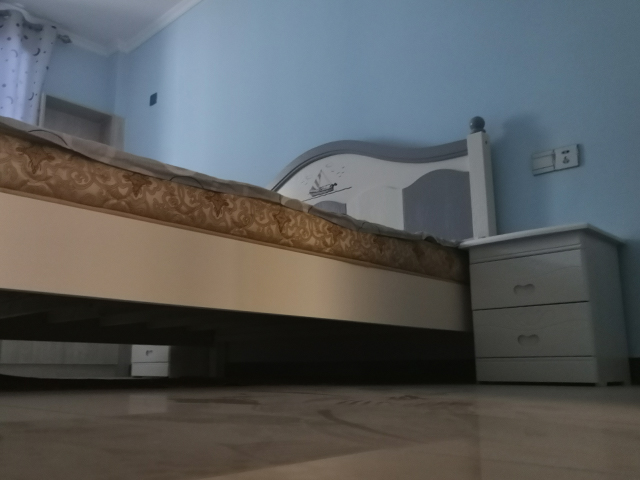bed: (1, 115, 500, 386)
cabinet: (457, 221, 635, 390)
